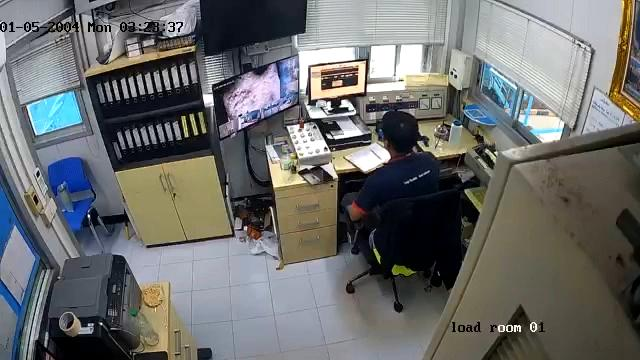Head: (381, 111, 419, 153)
People: (349, 110, 439, 221)
Phone: (297, 167, 322, 187), (309, 165, 334, 185)
